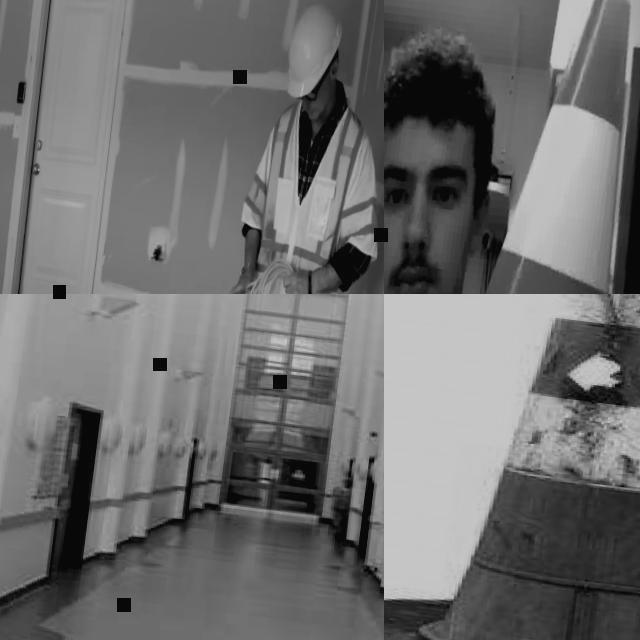helmet: (283, 0, 347, 100)
no_helmet: (384, 16, 498, 158)
no_mask: (384, 246, 457, 294), (306, 81, 332, 124)
person: (384, 11, 640, 294), (172, 0, 384, 294)
safety_cone: (384, 294, 640, 640), (385, 0, 640, 294)
vest: (234, 94, 384, 294)
